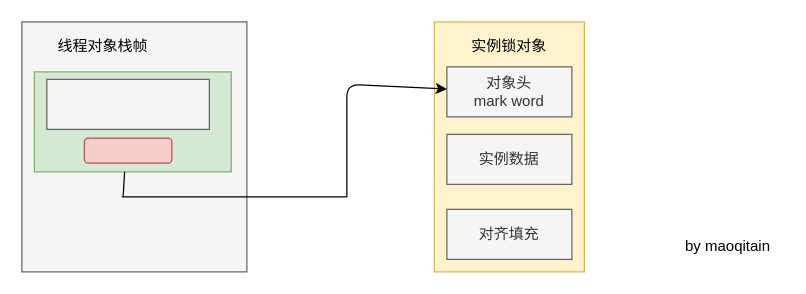
The diagram is 806 pixels wide and 294 high, and some of its shapes have lost their labels. The centre of each missing label's shape, as x and y in pixels:
mark word: the point at 127,103
owner: the point at 127,150
